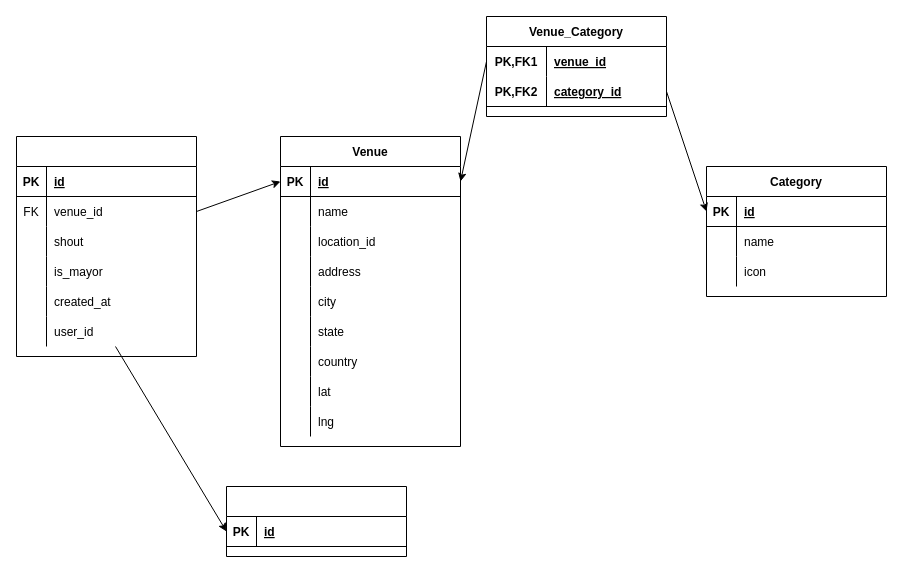
Some shapes in this 903 by 573 pixel diagram are drawn without their labels. The shapes that lost their labels are listed below. From the top down, each one's box as (x1, y1, x2, y2) in pixels, then its label:
(16, 136, 196, 356): Checkin
(226, 486, 406, 556): User
